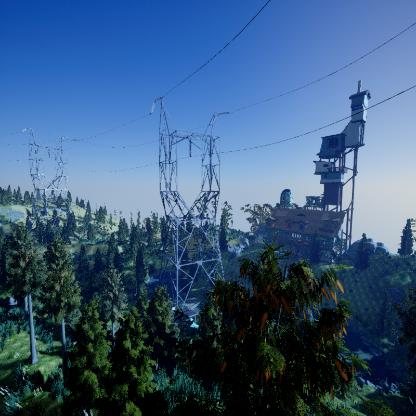tower: (148, 94, 232, 314), (19, 127, 72, 229)
